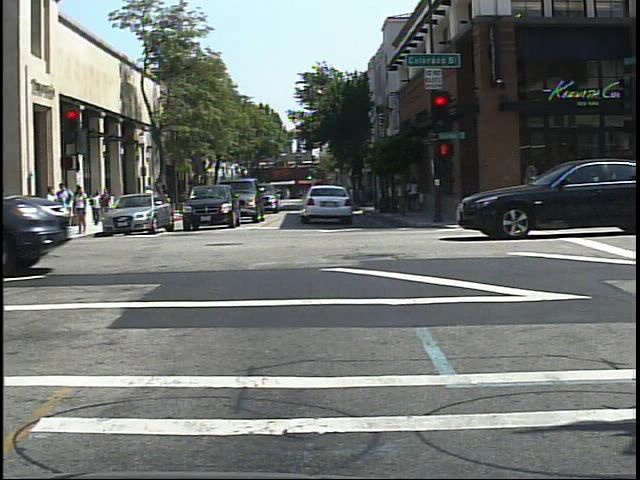person: (155, 180, 173, 216), (90, 188, 105, 229), (140, 183, 158, 214)
